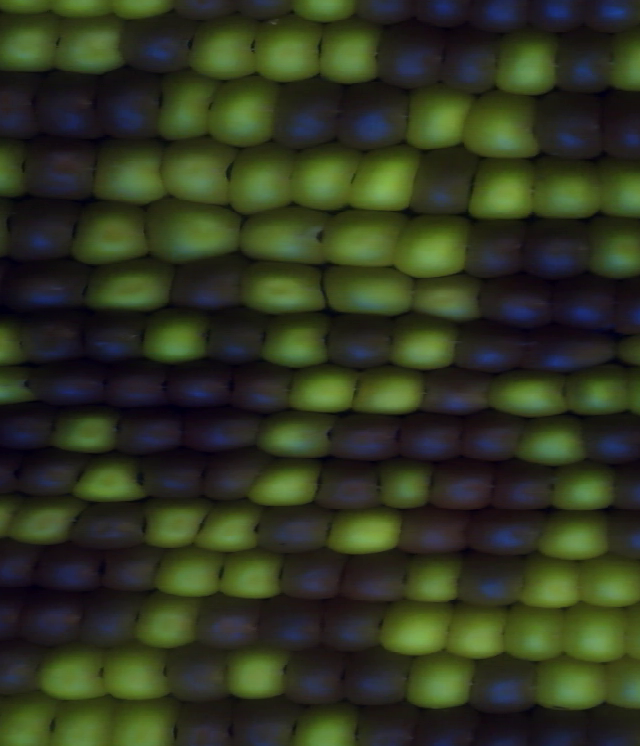fluorescent: (139, 194, 248, 267), (457, 86, 550, 167), (234, 201, 335, 274), (87, 130, 174, 213), (221, 138, 305, 221), (154, 135, 241, 214), (340, 142, 429, 218), (385, 207, 476, 281), (233, 254, 335, 320), (201, 71, 285, 151), (63, 197, 155, 269), (315, 204, 410, 272), (43, 8, 129, 82), (316, 261, 422, 321), (286, 139, 364, 220), (488, 22, 565, 103), (396, 80, 480, 154), (525, 152, 610, 224), (462, 153, 542, 228), (76, 257, 177, 316), (183, 12, 264, 85), (94, 640, 177, 710), (528, 649, 614, 716), (374, 595, 461, 661), (480, 362, 577, 421), (252, 10, 327, 86), (314, 13, 386, 92), (135, 493, 223, 557), (249, 406, 343, 465), (128, 586, 210, 653), (554, 599, 632, 669), (36, 636, 112, 707), (150, 66, 220, 143), (404, 649, 483, 717), (385, 305, 461, 375), (239, 455, 330, 513), (219, 639, 295, 708), (529, 504, 616, 564), (281, 360, 365, 422), (0, 6, 72, 78), (554, 358, 635, 422), (437, 598, 514, 665), (3, 490, 86, 552), (187, 496, 267, 560), (255, 308, 334, 372), (137, 301, 213, 367), (498, 602, 575, 667), (319, 501, 406, 558), (346, 362, 430, 421), (539, 457, 623, 516), (511, 548, 586, 614), (62, 451, 150, 507), (148, 543, 230, 602), (43, 404, 129, 460), (211, 542, 287, 605), (405, 269, 487, 327), (512, 410, 591, 469), (580, 208, 640, 284), (570, 551, 640, 614), (397, 546, 468, 608), (44, 692, 125, 746), (107, 691, 186, 746), (283, 697, 371, 746), (369, 452, 438, 513), (0, 685, 69, 746), (585, 151, 640, 223), (600, 23, 640, 100), (600, 652, 640, 715), (0, 359, 41, 411), (0, 314, 33, 373)
nonfluorescent: (29, 61, 111, 151), (398, 142, 490, 221), (329, 75, 418, 156), (16, 129, 107, 207), (265, 70, 348, 155), (88, 62, 169, 146), (112, 7, 203, 81), (532, 84, 608, 167), (458, 648, 549, 717), (336, 640, 424, 711), (165, 248, 255, 317), (369, 22, 454, 94), (316, 304, 401, 376), (514, 324, 622, 380), (518, 208, 599, 282), (0, 254, 95, 317), (470, 269, 560, 335), (435, 19, 509, 99), (4, 195, 84, 269), (460, 504, 557, 564), (189, 590, 268, 661), (548, 22, 618, 101), (249, 497, 336, 560), (448, 313, 529, 380), (447, 553, 535, 614), (546, 270, 619, 343), (256, 588, 332, 658), (158, 350, 243, 412), (161, 637, 237, 706), (315, 592, 393, 659), (22, 359, 118, 413), (277, 644, 353, 712), (9, 587, 87, 653), (322, 406, 406, 467), (8, 442, 92, 503), (333, 547, 415, 609), (224, 357, 301, 423), (459, 213, 531, 283), (68, 496, 155, 553), (426, 452, 500, 518), (308, 455, 388, 516), (393, 406, 469, 470), (95, 353, 176, 413), (202, 303, 274, 370), (417, 360, 500, 418), (388, 500, 471, 558), (485, 457, 562, 519), (195, 446, 274, 506), (73, 307, 154, 365), (75, 587, 144, 655), (131, 447, 213, 504), (175, 404, 267, 454), (452, 407, 531, 465), (227, 692, 308, 746), (11, 310, 88, 366), (107, 406, 187, 459), (30, 539, 104, 596), (0, 396, 61, 462), (95, 539, 168, 594), (578, 409, 640, 473), (282, 544, 349, 603), (594, 84, 640, 168), (511, 702, 598, 746), (166, 695, 241, 746), (462, 703, 548, 746), (351, 700, 431, 746), (0, 63, 43, 145), (403, 704, 483, 746), (0, 637, 48, 701), (0, 533, 48, 595), (597, 501, 640, 568), (581, 698, 640, 746), (605, 271, 640, 339), (602, 459, 640, 518), (0, 585, 31, 647)
